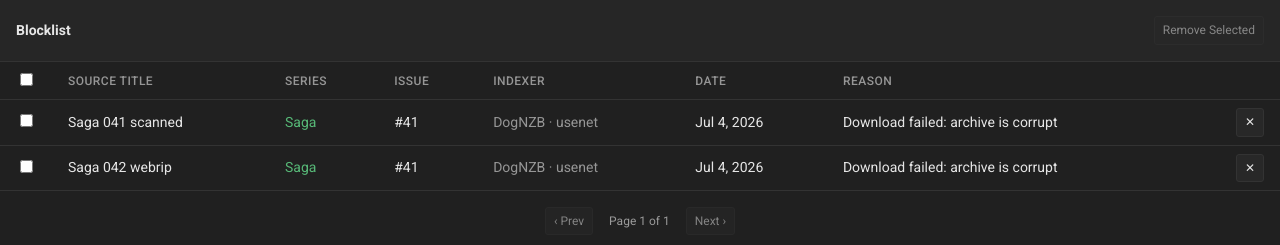
Scenario: FRG-UI-017: blocklist screen › FRG-UI-017 — a banned release renders source title, series/issue link, indexer, date, and reason verbatim; removing deletes the row
Expected: the text "Saga 041 scanned" is shown, [52, 100, 269, 145]
Expected: the text "#41" in the row of "Saga 041 scanned" is shown, [394, 114, 419, 130]
Click the button named "Remove Saga 041 scanned".
click(1250, 123)  # box [1236, 108, 1264, 137]
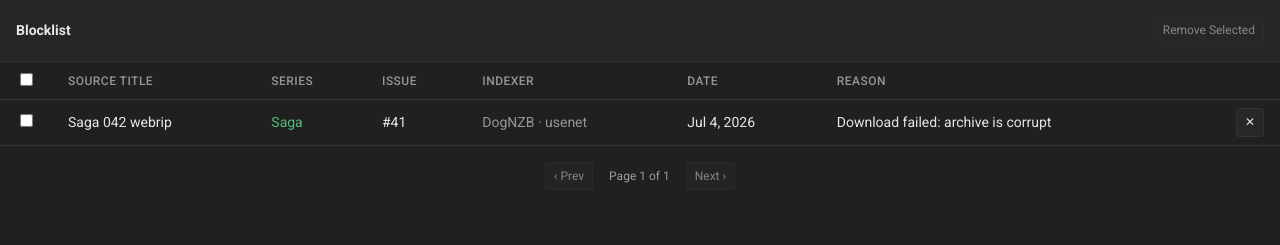
Expected: the row with test id "blocklist-row-12" is shown, [0, 100, 1279, 145]
Now the row with test id "blocklist-row-11" is gone
